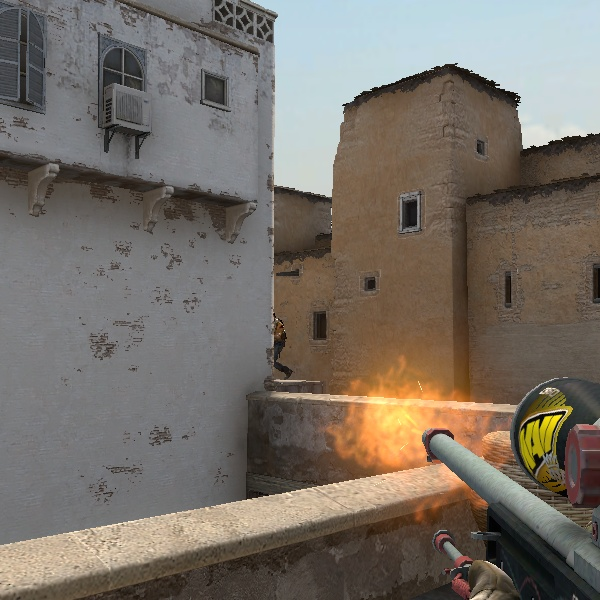t_body: (273, 313, 295, 379)
